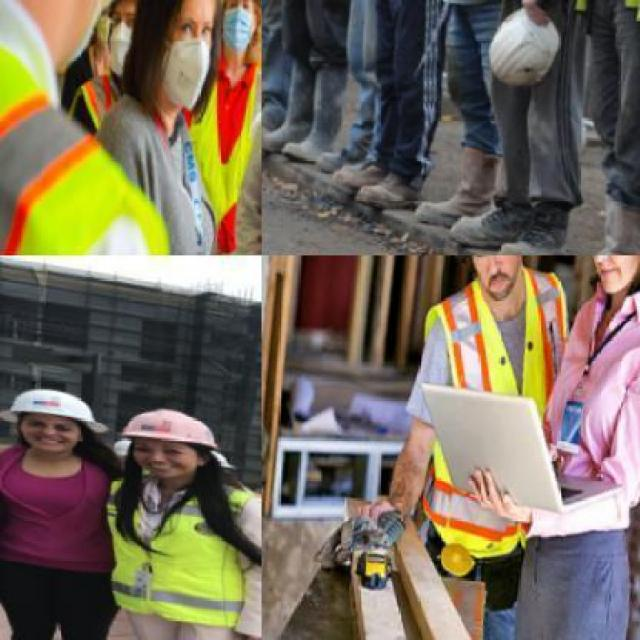vest: (351, 256, 594, 584), (0, 25, 183, 254), (68, 460, 260, 638), (162, 51, 260, 251), (60, 57, 131, 141)
